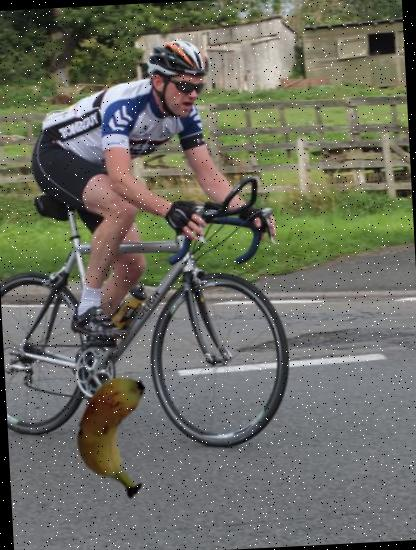Banana: (58, 371, 182, 495)
